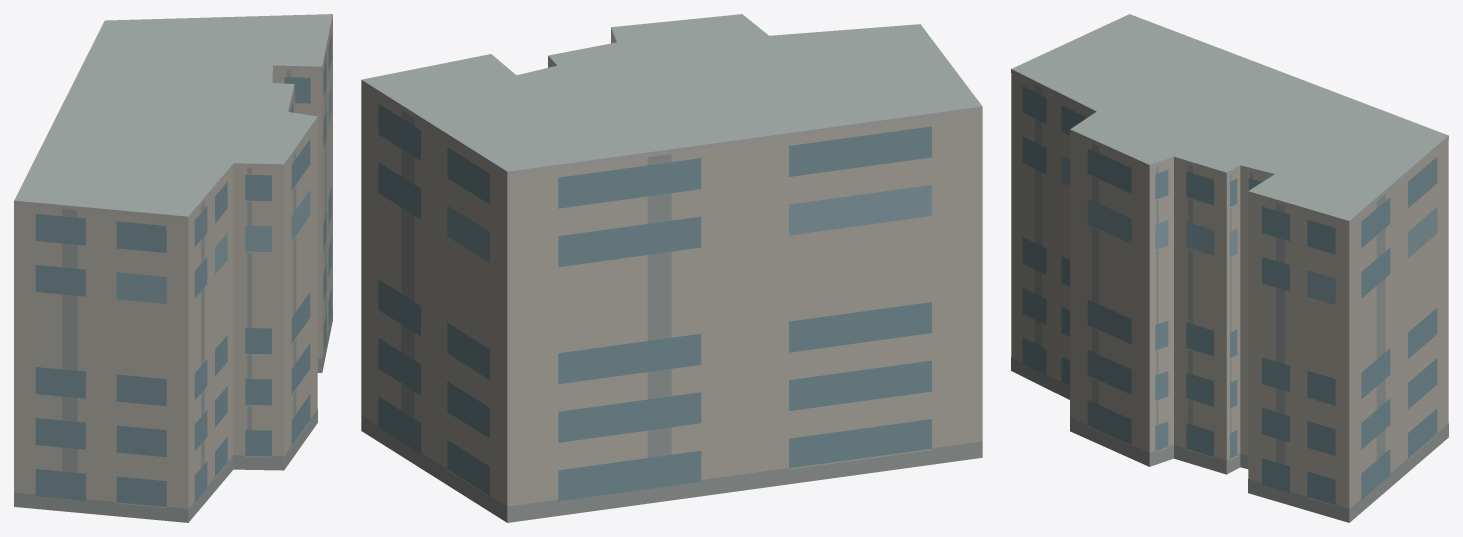
Rendered from survey-upis-32492303.glb.
3 views of the same model, side by side, from view 1: azimuth 30°, elevation 25°; view 2: azimuth 150°, elevation 25°; view 3: azimuth 270°, elevation 25° (orthographic). The views are drawn at different scales.
Visible parts, largest first — view 1: survey-upis-32492303.tmp; view 2: survey-upis-32492303.tmp; view 3: survey-upis-32492303.tmp.
Boxes of the visible parts, bbox=[...] form: survey-upis-32492303.tmp: bbox=[14, 14, 332, 522]; survey-upis-32492303.tmp: bbox=[361, 14, 982, 522]; survey-upis-32492303.tmp: bbox=[1011, 14, 1448, 522].
Size of the model in its own units: 27.13 by 18.45 by 24.24.
